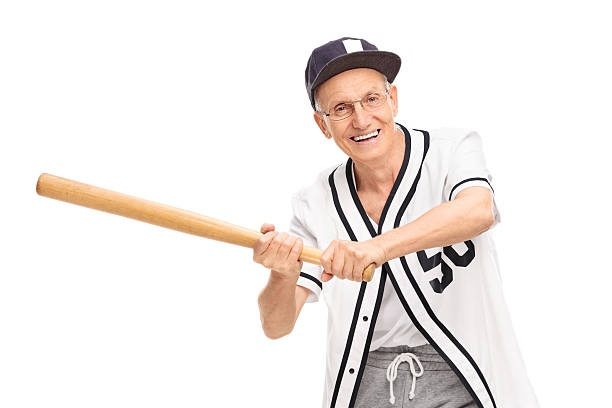bita: (35, 171, 374, 275)
